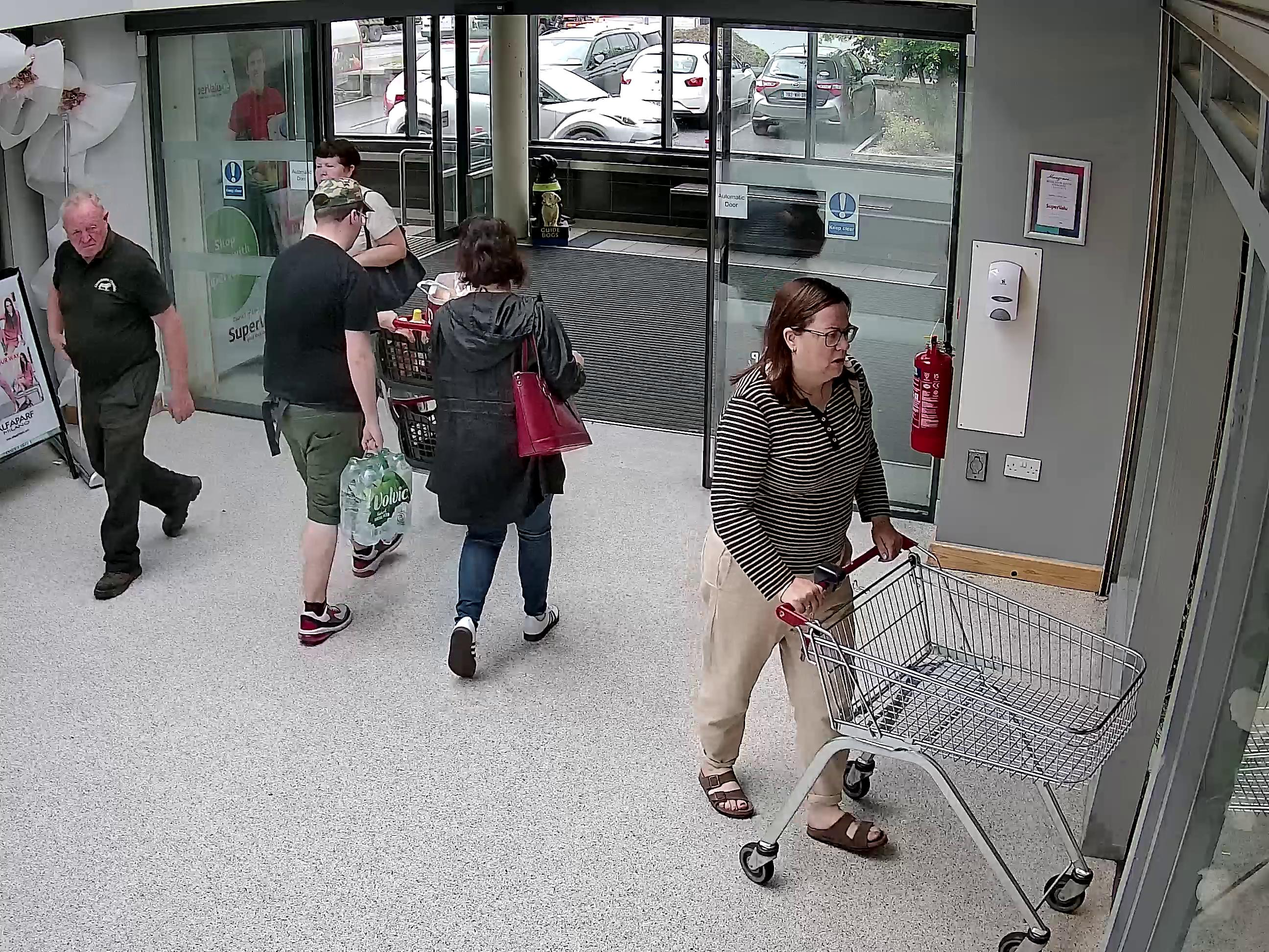backpack-or-handbag: (512, 372, 592, 460)
carrying-item: (340, 449, 414, 547)
empty-trolly: (741, 530, 1146, 952)
filled-trolly: (374, 307, 460, 473)
person: (695, 280, 901, 850), (432, 216, 584, 677), (262, 179, 384, 645)
person-with-backpack-handbag: (431, 216, 591, 677)
person-with-basket-trolly-and-carrying-item: (263, 177, 460, 643)
person-with-empty-basket-trolly: (694, 279, 1146, 952)
